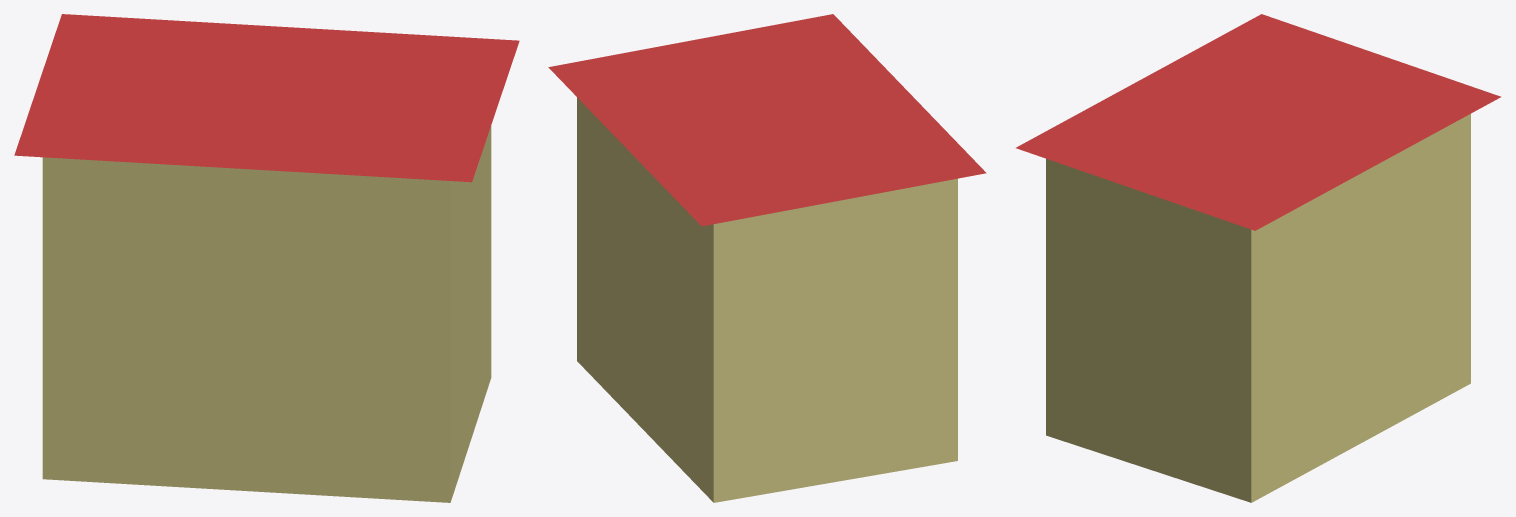
3 views of the same model, side by side, from view 1: azimuth 30°, elevation 25°; view 2: azimuth 150°, elevation 25°; view 3: azimuth 270°, elevation 25° (orthographic). The views are drawn at different scales.
Parts seen in each view (by area): view 1: group_5, group_3, group_4; view 2: group_5, group_3, group_4; view 3: group_5, group_3, group_4.
Boxes of the visible parts, x1,y1,x2,y2 form: group_5: (42,125,491,502); group_3: (42,14,519,181); group_4: (14,14,471,182); group_5: (577,97,957,502); group_3: (548,14,957,226); group_4: (701,14,986,225); group_5: (1046,114,1470,502); group_3: (1019,27,1500,230); group_4: (1016,14,1500,181).
Size of the model in its own units: 17.28 by 16.69 by 10.95.
